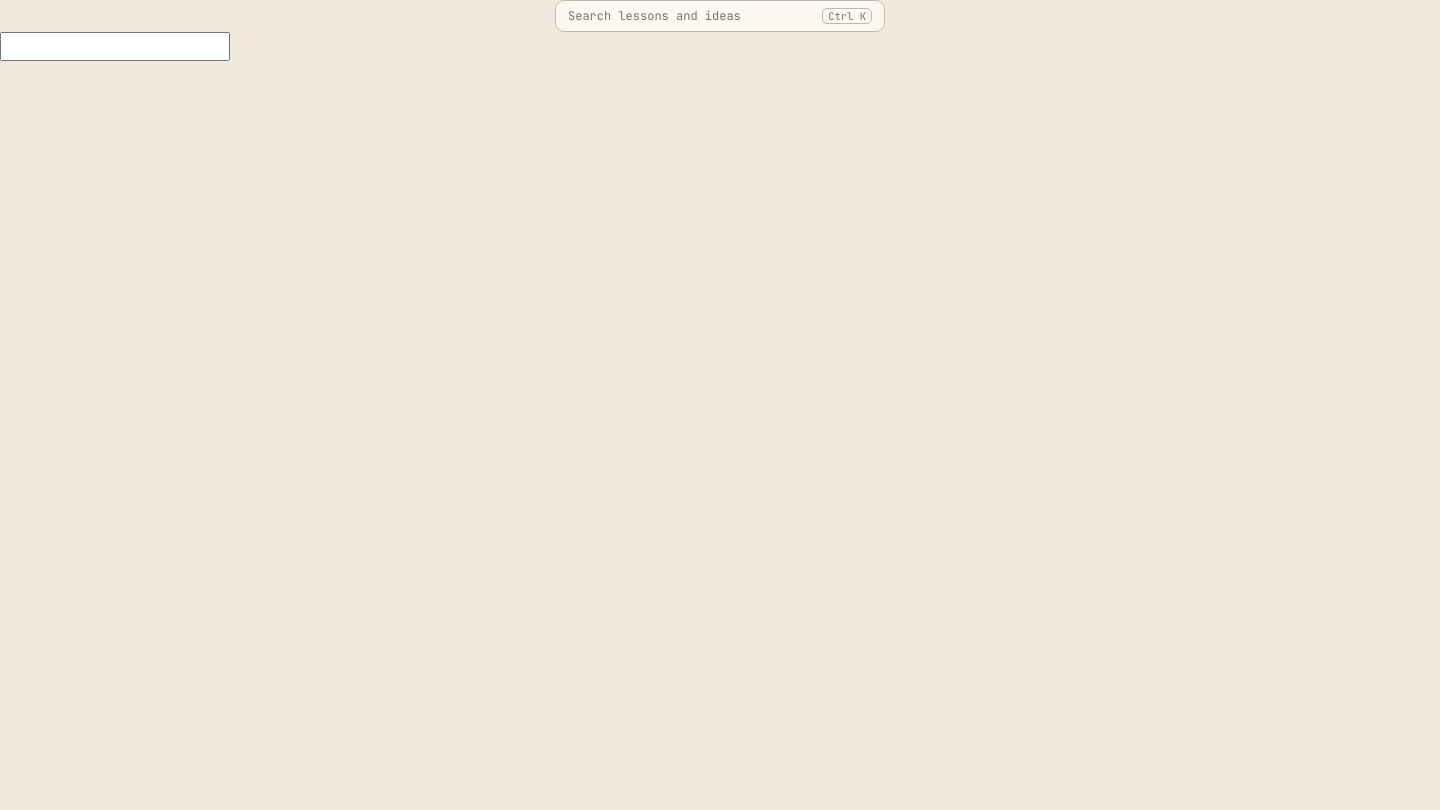
Test: SearchPalette › the button opens it; Escape closes it and gives focus back
Click the button "Search lessons and ideas Ctrl K": coordinates (720, 16) [555,0,885,32]
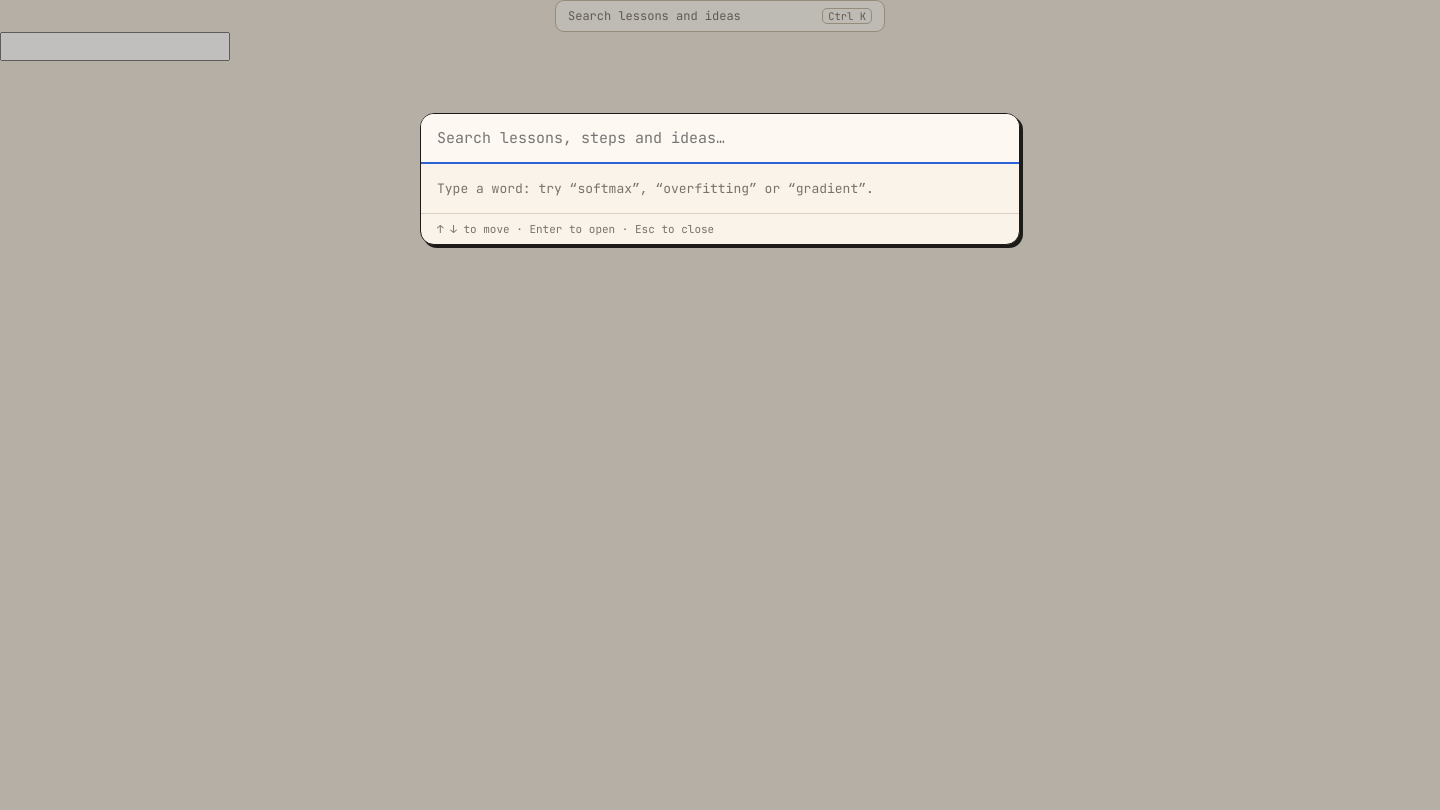
Check: the dialog is shown, box [420,113,1020,245]
Press Escape
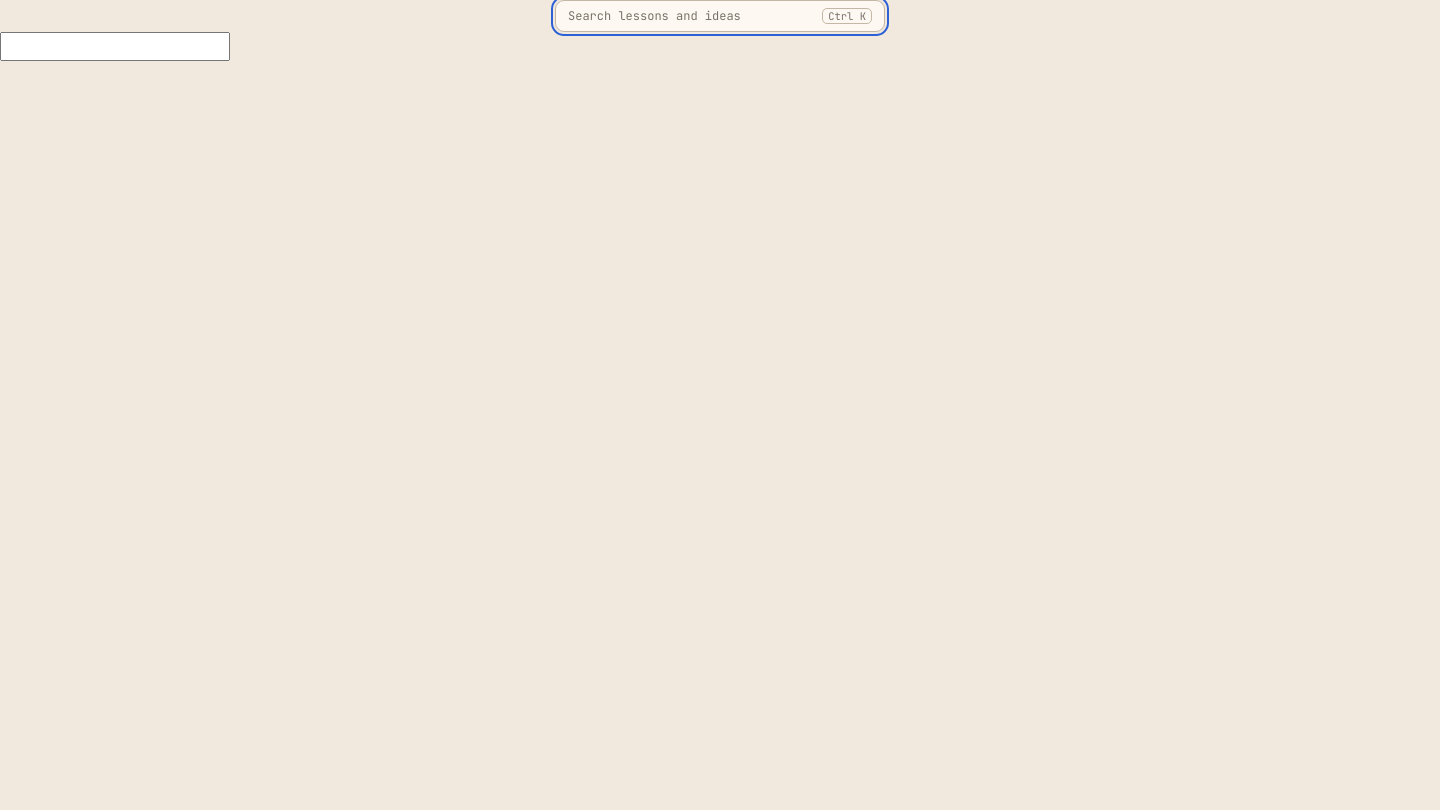
Check: the dialog is gone
